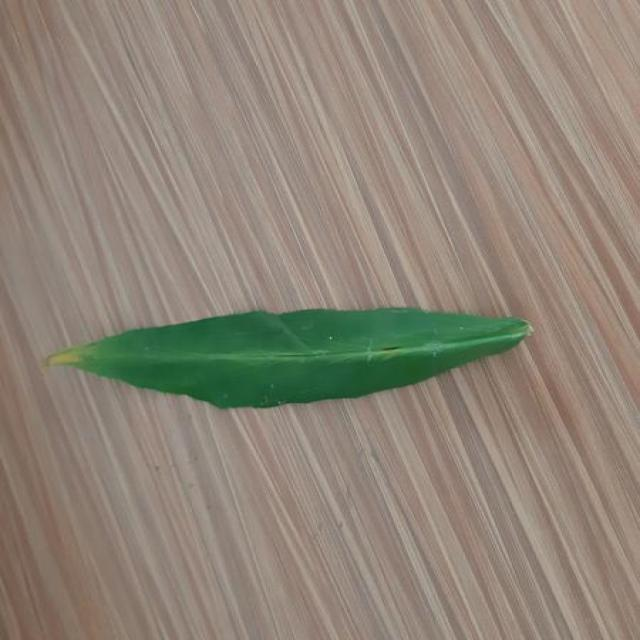ginger: (47, 308, 530, 408)
